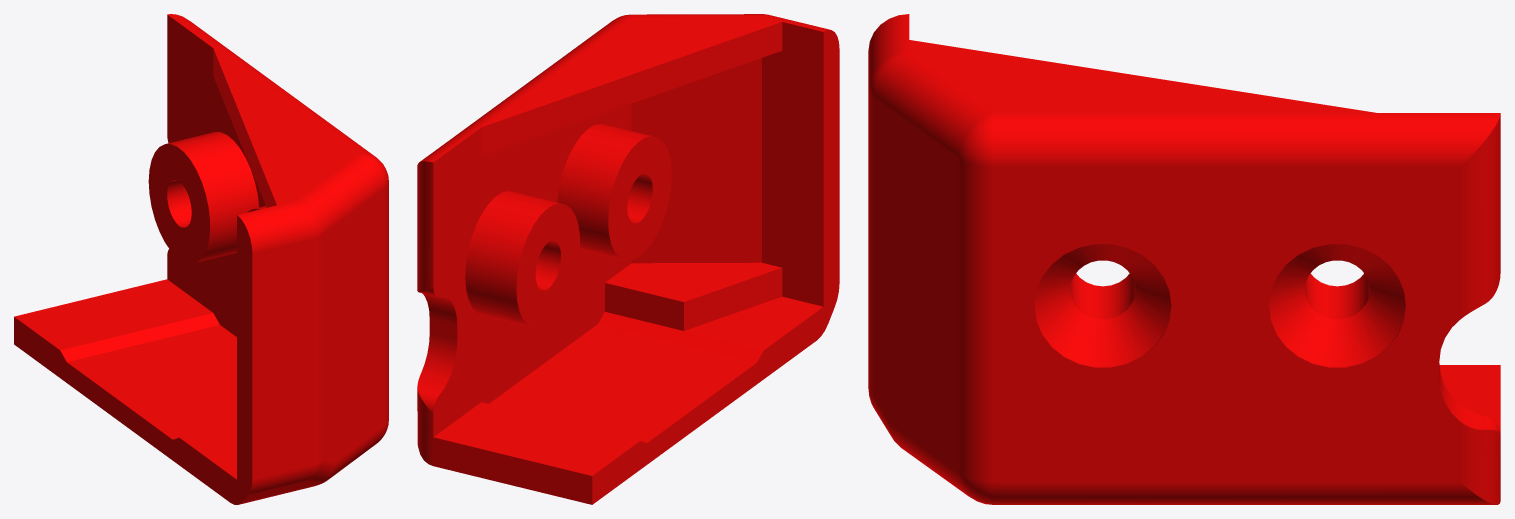
File: Gripper_Finger2.dae
The picture shows the model from 3 angles, left to right: view 1: azimuth 30°, elevation 25°; view 2: azimuth 150°, elevation 25°; view 3: azimuth 270°, elevation 25°; orthographic projection. The views are drawn at different scales.
Parts seen in each view (by area): view 1: GripperFinger2; view 2: GripperFinger2; view 3: GripperFinger2.
Part boxes in pixels (bbox=[...]): GripperFinger2: bbox=[14, 14, 388, 504]; GripperFinger2: bbox=[417, 14, 839, 504]; GripperFinger2: bbox=[868, 14, 1500, 504].
Size of the model in its own units: 0.0135 by 0.021 by 0.031.
